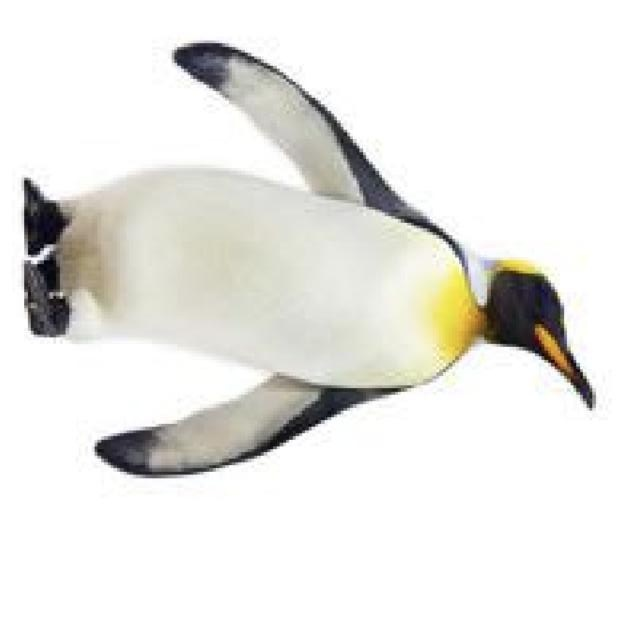penguin: (21, 40, 597, 480)
